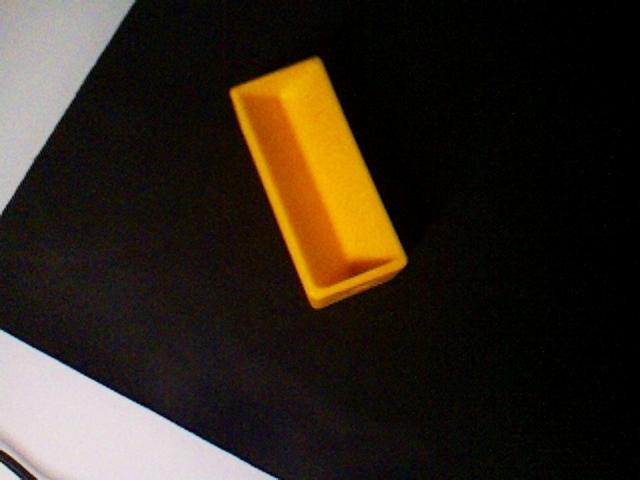yellow: (228, 54, 410, 311)
